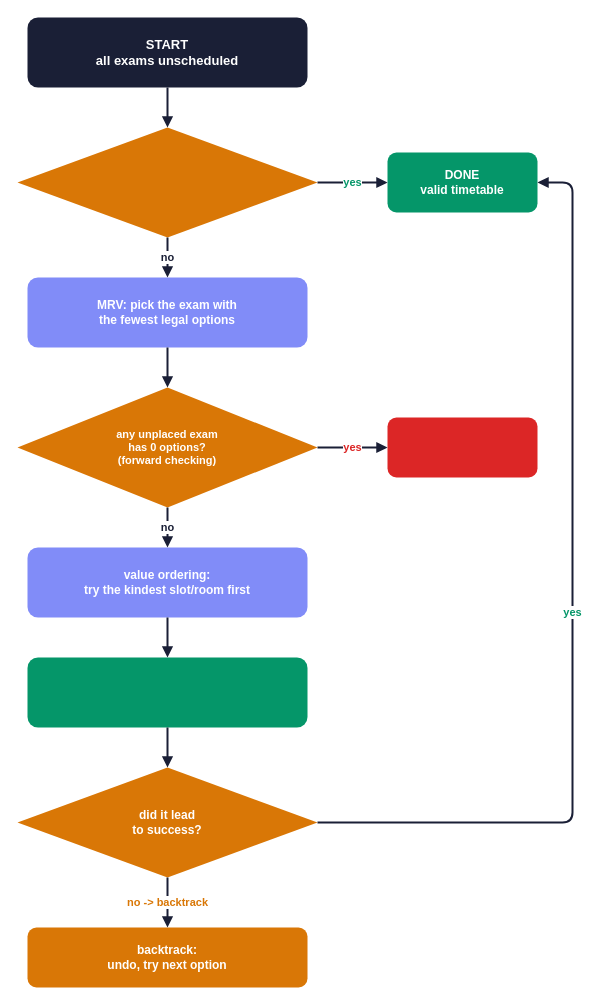
This 598x1004 diagram has some shape labels left out. The box of each missing label's shape, as (x1, y1, x2, y2) in pixels:
all exams placed?: (17, 127, 317, 237)
NO valid timetable exists: (387, 417, 537, 477)
place the exam, solve the rest (recursion): (27, 657, 307, 727)
